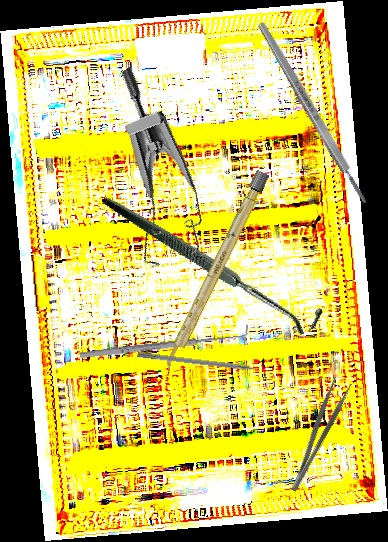Dressing Forceps: (279, 375, 354, 494)
Hook Surgical: (101, 132, 328, 388), (78, 323, 250, 362)
Pusher: (137, 351, 272, 376)
Scalpel Handle: (161, 169, 270, 373), (255, 19, 371, 207)
Speculum: (48, 64, 243, 286)
